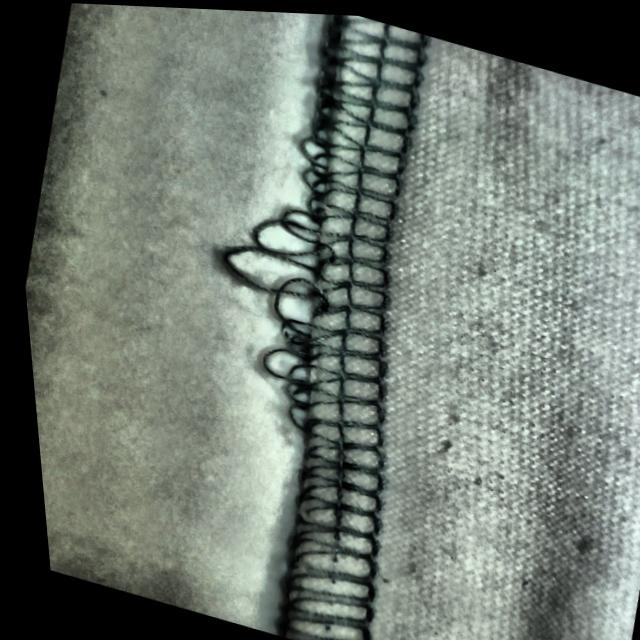Stitch: (166, 99, 453, 455)
